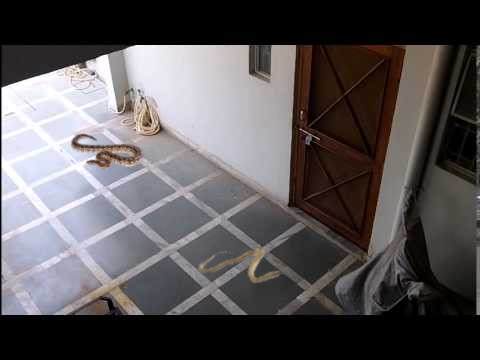snake: (196, 247, 282, 285), (71, 132, 143, 169)
